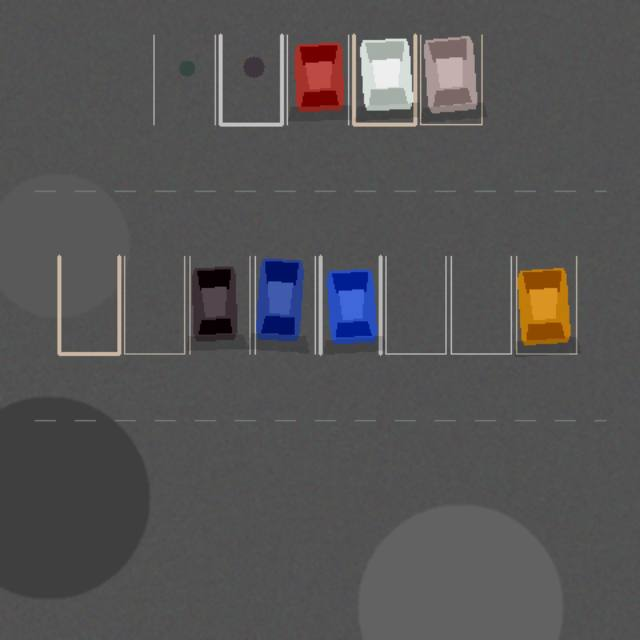space-empty: (59, 256, 119, 353), (124, 256, 184, 353), (385, 256, 445, 353), (451, 256, 511, 353), (153, 35, 215, 124), (220, 35, 281, 124)
space-occupied: (189, 256, 249, 353), (255, 256, 315, 353), (320, 256, 380, 353), (516, 256, 576, 353), (353, 35, 415, 124), (287, 35, 348, 124), (420, 35, 481, 124)
